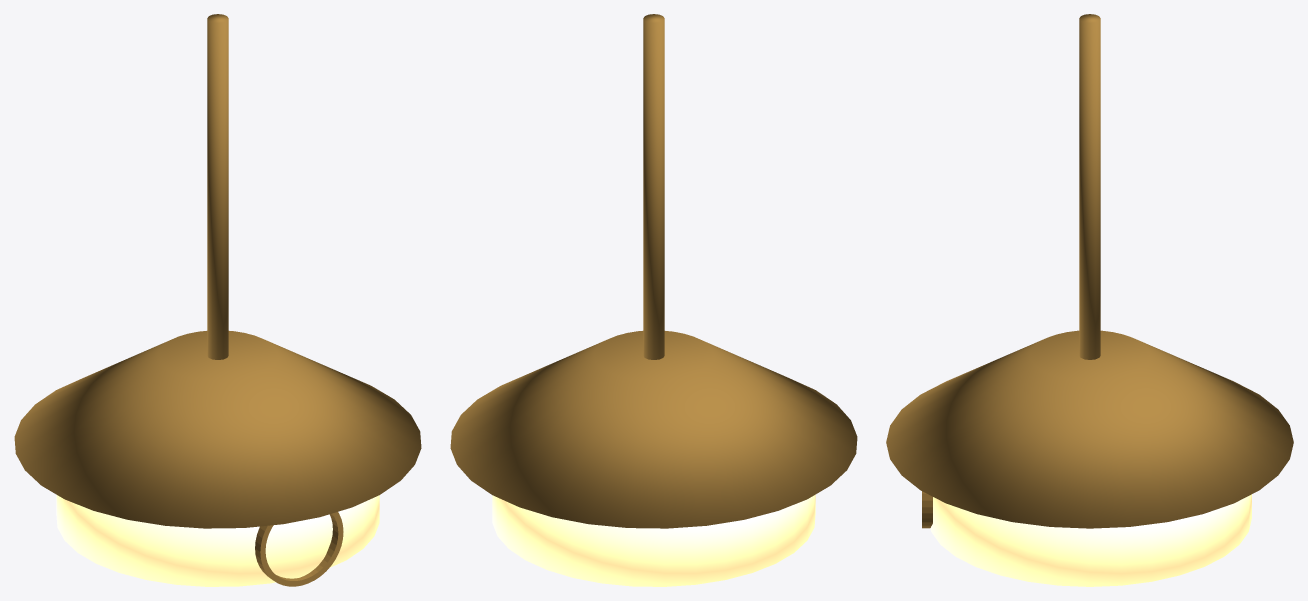
3 views of the same model, side by side, from view 1: azimuth 30°, elevation 25°; view 2: azimuth 150°, elevation 25°; view 3: azimuth 270°, elevation 25° (orthographic).
Parts seen in each view (by area): view 1: clockshop_brass, clockshop_lamp_glass; view 2: clockshop_brass, clockshop_lamp_glass; view 3: clockshop_brass, clockshop_lamp_glass.
Part boxes in pixels (<box>): clockshop_brass: <box>14,14,421,586</box>; clockshop_lamp_glass: <box>56,494,379,586</box>; clockshop_brass: <box>450,14,857,528</box>; clockshop_lamp_glass: <box>492,494,815,586</box>; clockshop_brass: <box>886,14,1293,528</box>; clockshop_lamp_glass: <box>930,494,1251,586</box>.
Bounding box in the file's own units: 0.68 × 0.98 × 0.68.
